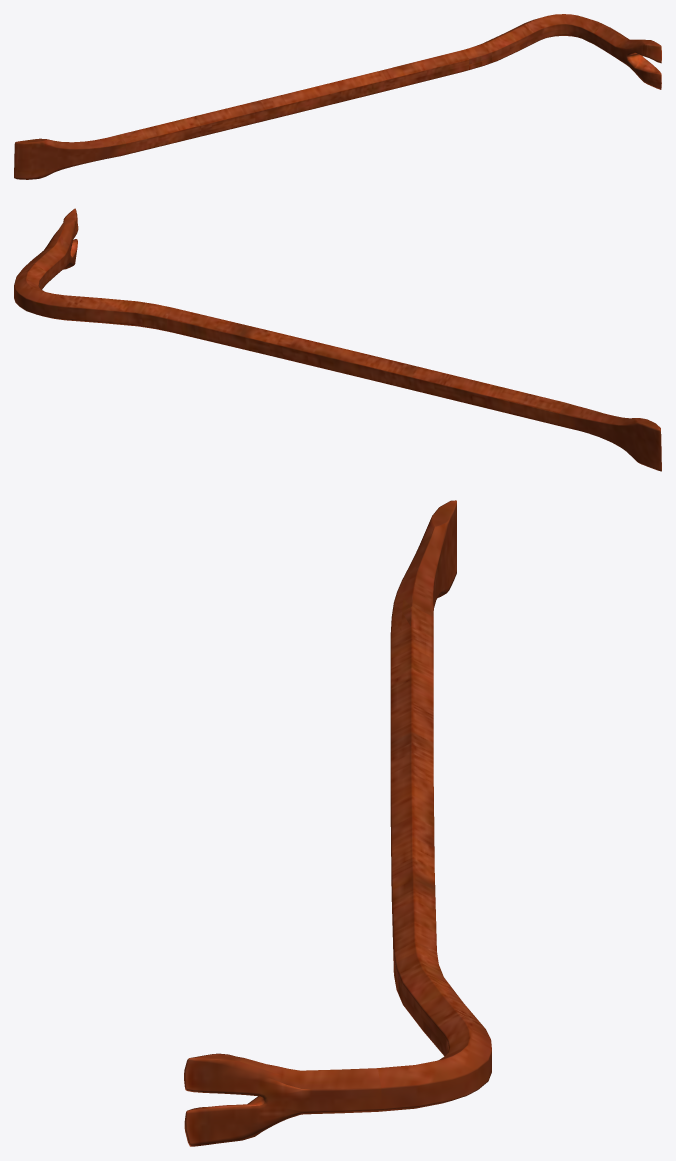
The model's file is crowbar.glb.
3 renders of one model, top to bottom at view 1: azimuth 30°, elevation 25°; view 2: azimuth 150°, elevation 25°; view 3: azimuth 270°, elevation 25°, orthographic. The views are drawn at different scales.
Parts seen in each view (by area): view 1: crowbar; view 2: crowbar; view 3: crowbar.
Part boxes in pixels (x1,y1,x2,y2): crowbar: [14, 14, 661, 179]; crowbar: [14, 208, 661, 471]; crowbar: [184, 500, 491, 1146].
Bounding box in the file's own units: 0.62 × 0.0451 × 0.1424.
1 material, 1 textured.
